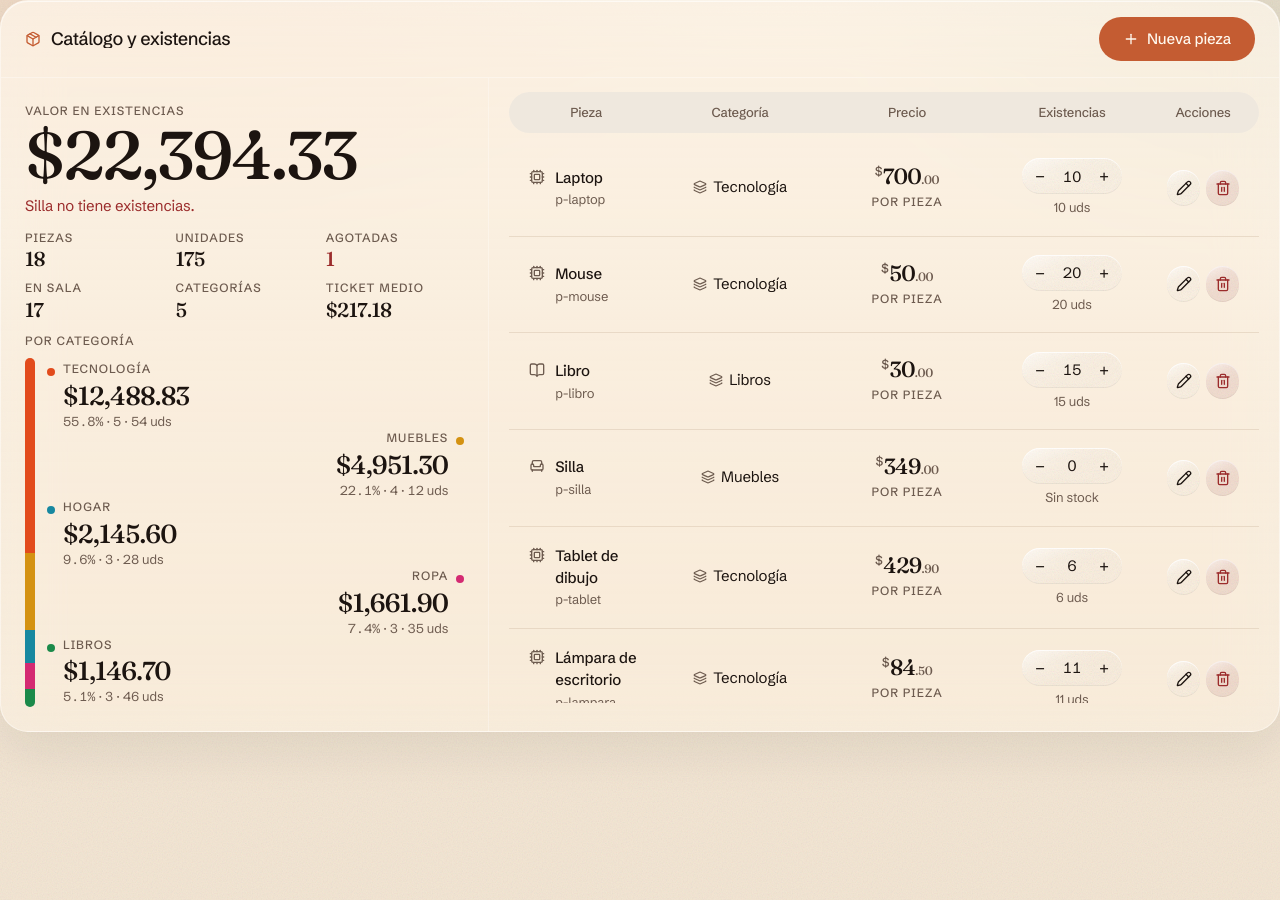
it: ProductDesk › restocks a sold-out piece only after confirming the new quantity
Expected: the text "Sin stock" is shown, [1045, 488, 1099, 507]
Click the button named "Agregar stock de Silla" at (1104, 466), box [1086, 448, 1122, 484]
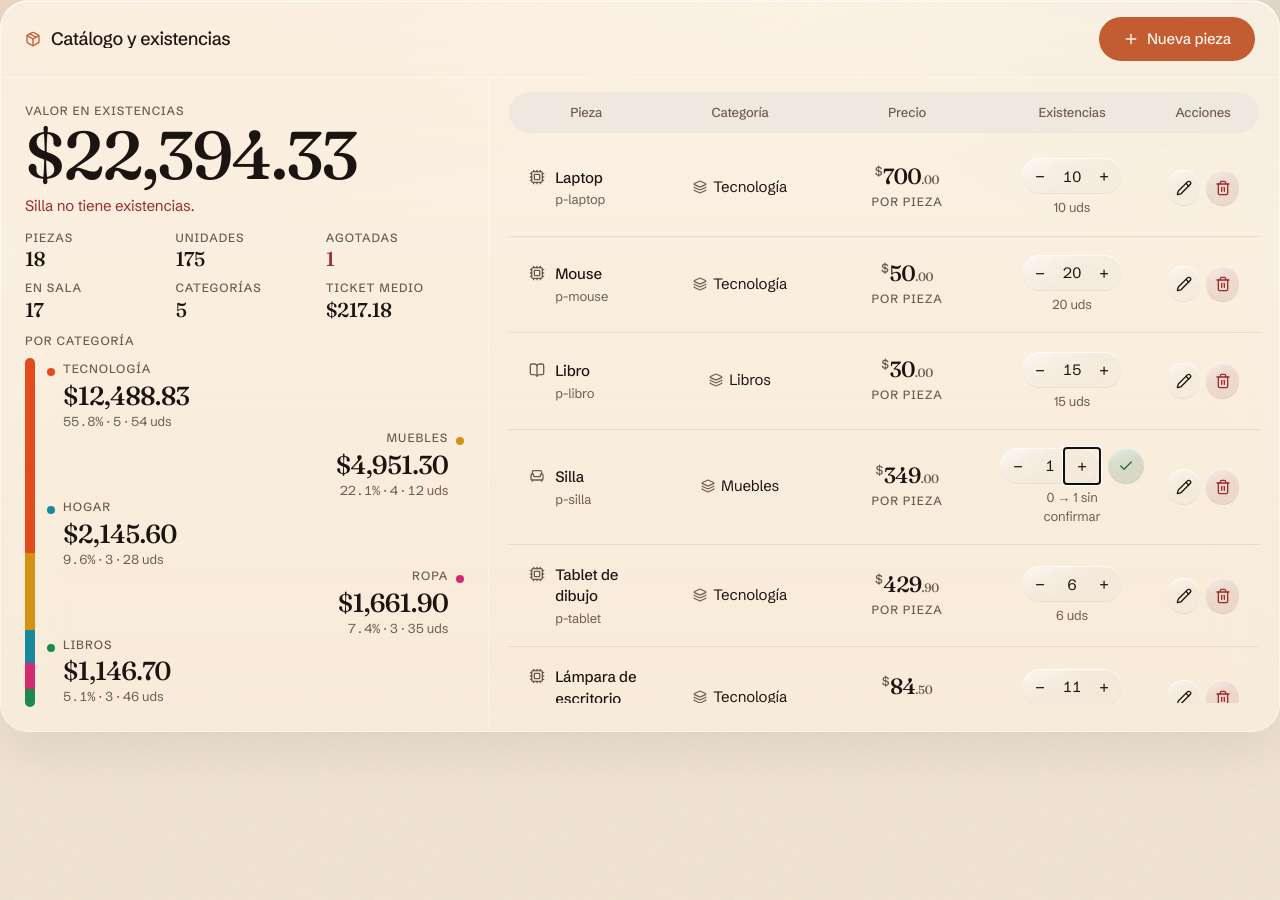
Expected: the text "0 → 1 sin confirmar" is shown, [1044, 489, 1100, 524]
Click the button named "Confirmar stock de Silla" at (1126, 466), box [1108, 448, 1144, 484]
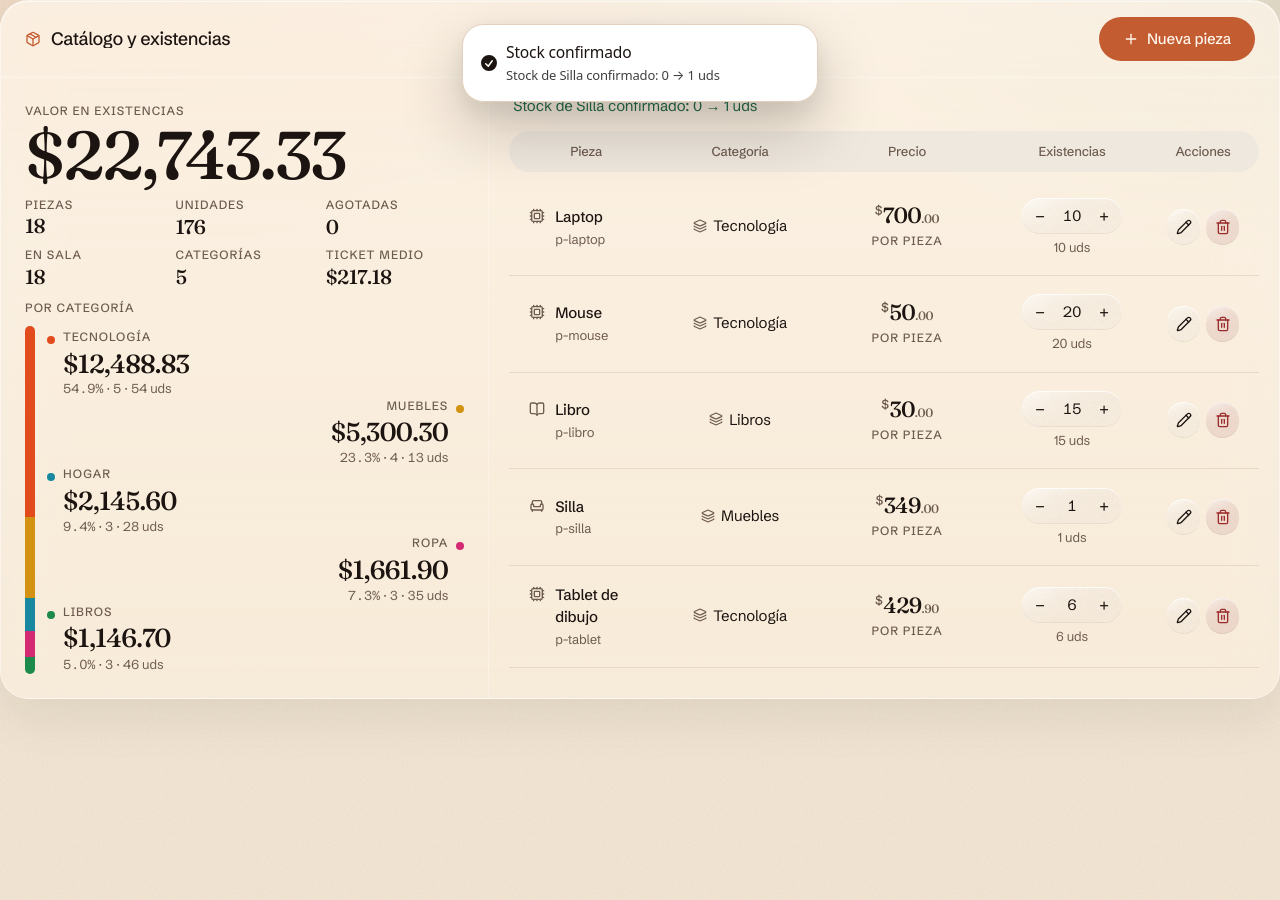
Expected: the text "Sin stock" is not shown
Expected: the button named "Stock de Silla" shows "1", [1067, 496, 1077, 515]
Expected: the message shows "Stock de Silla confirmado", [513, 96, 757, 115]
